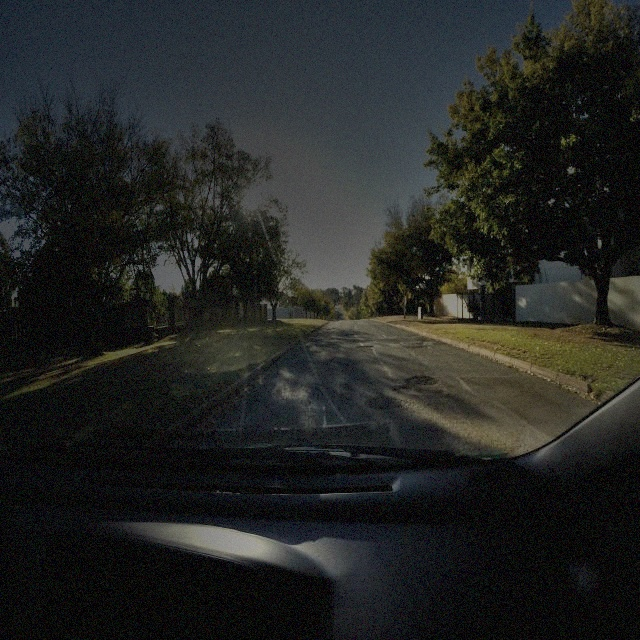pothole: (368, 396, 404, 411), (407, 376, 441, 386), (394, 386, 414, 395), (406, 342, 426, 349), (357, 344, 374, 348)
